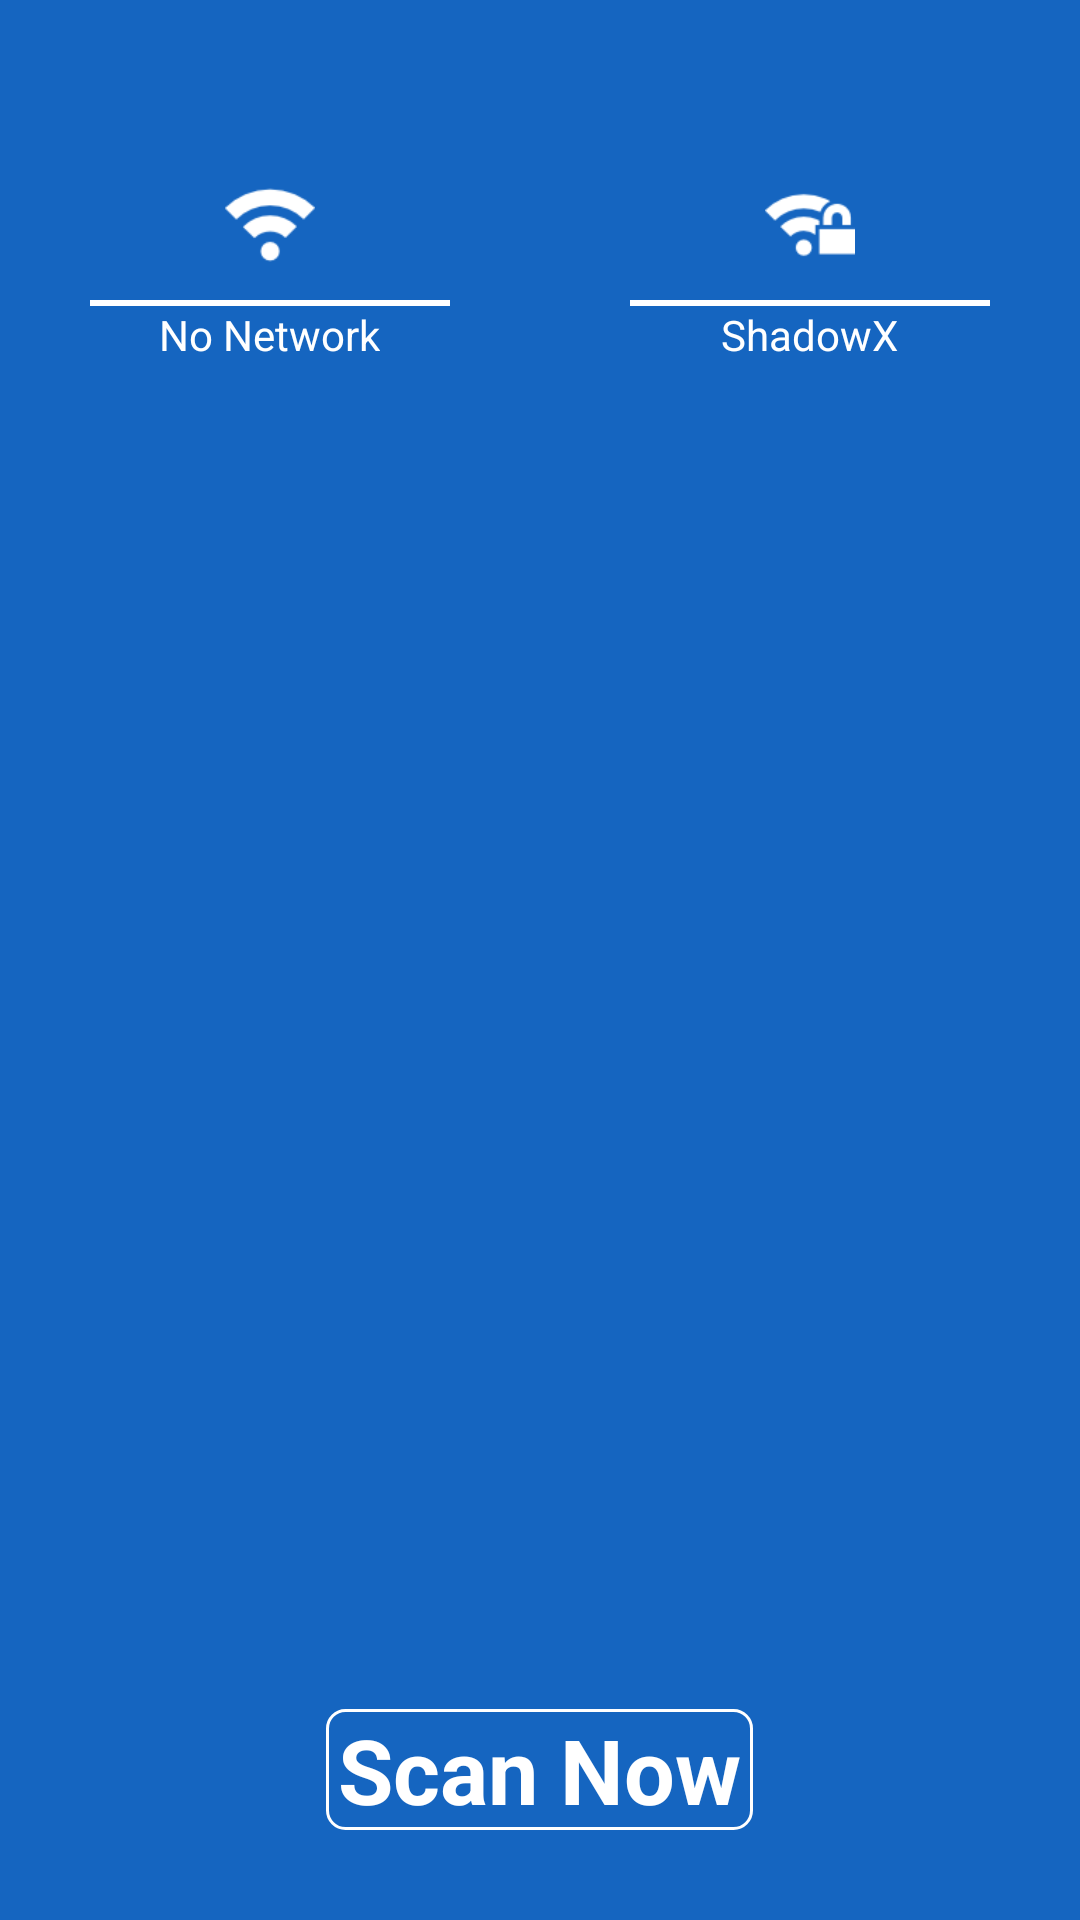

Icons on this 1080 x 1920 Android screen, each with its box as [x1,y1,x2,y2]:
closed network: [765,194,855,256]
open network: [225,188,315,262]
